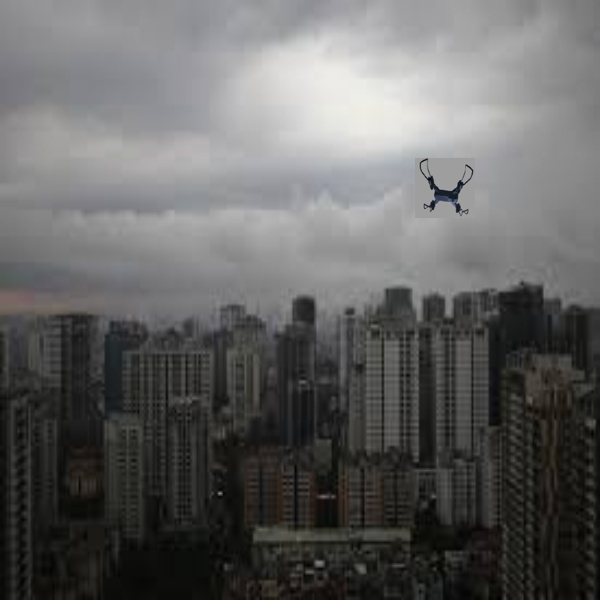drone: (414, 155, 479, 218)
